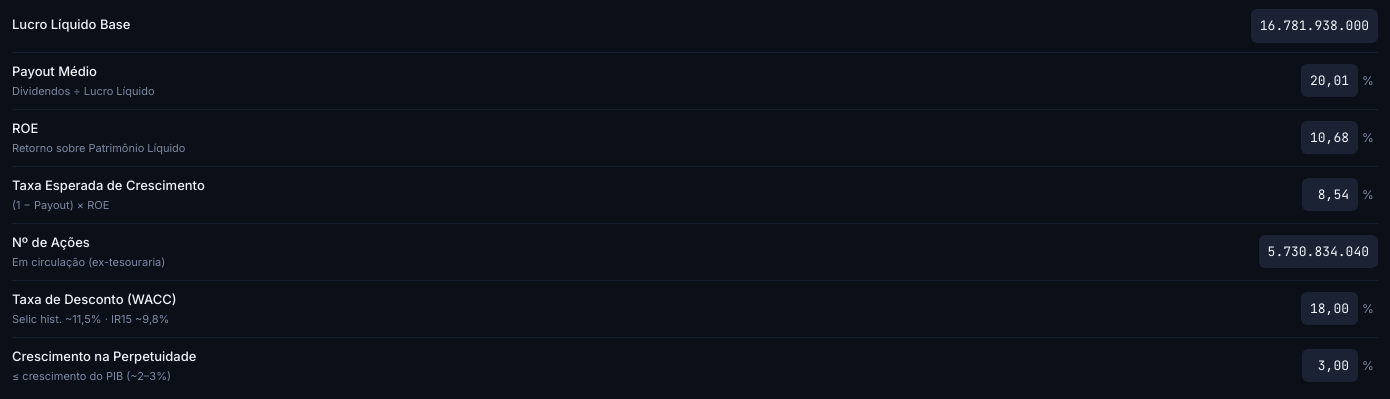
Test: DCFInputPanel — digitação não é engolida › o cursor não é jogado para o fim no meio da edição
This screenshot has width=1390, height=399.
Clear the field showing "20,01" in the row of "Dividendos ÷ Lucro Líquido". click: (1330, 81)
box: [1301,64,1358,97]
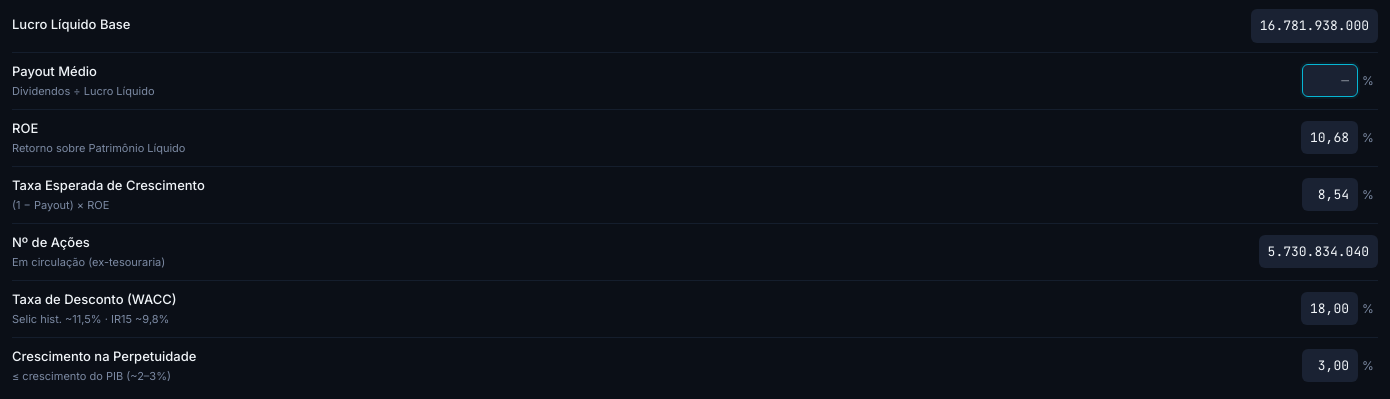
Type "2001" into the field showing "20,01". click: (1330, 81)
box: [1302,64,1358,97]
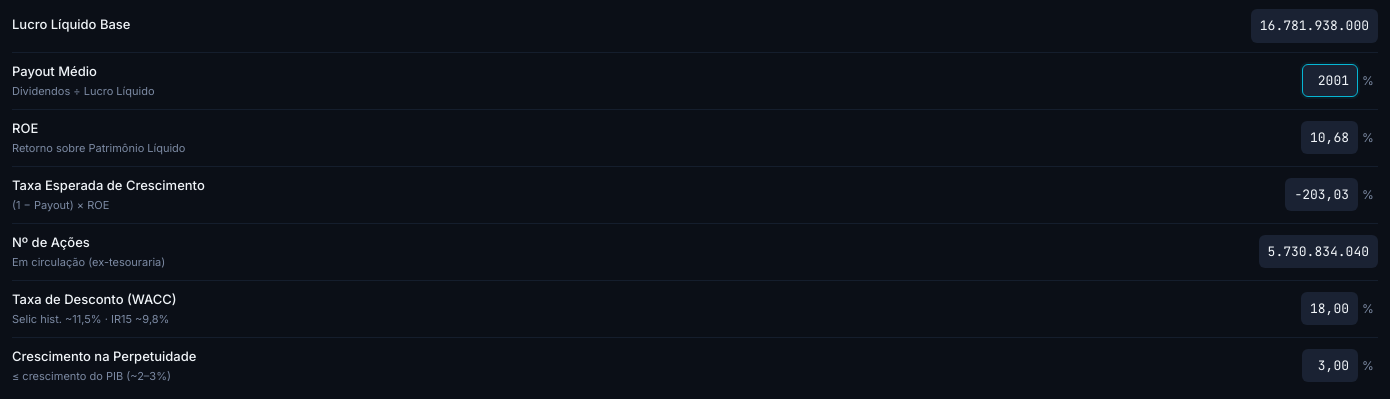
Type "9" into the field showing "20,01" in the row of "Dividendos ÷ Lucro Líquido". click: (1330, 81)
box: [1302,64,1358,97]
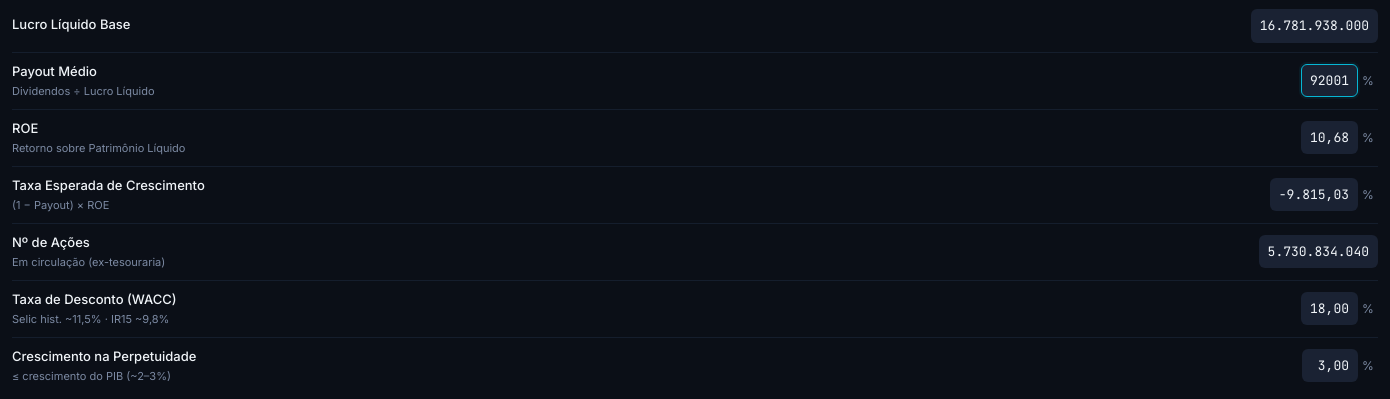
Check: the field showing "20,01" in the row of "Dividendos ÷ Lucro Líquido" holds "92001", box [1301,64,1358,97]
